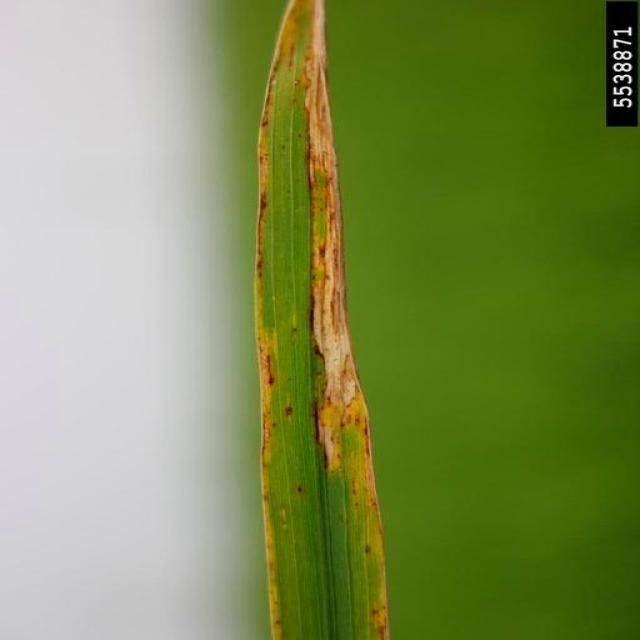Bacterial_Leaf_Blight: (244, 6, 406, 595)
